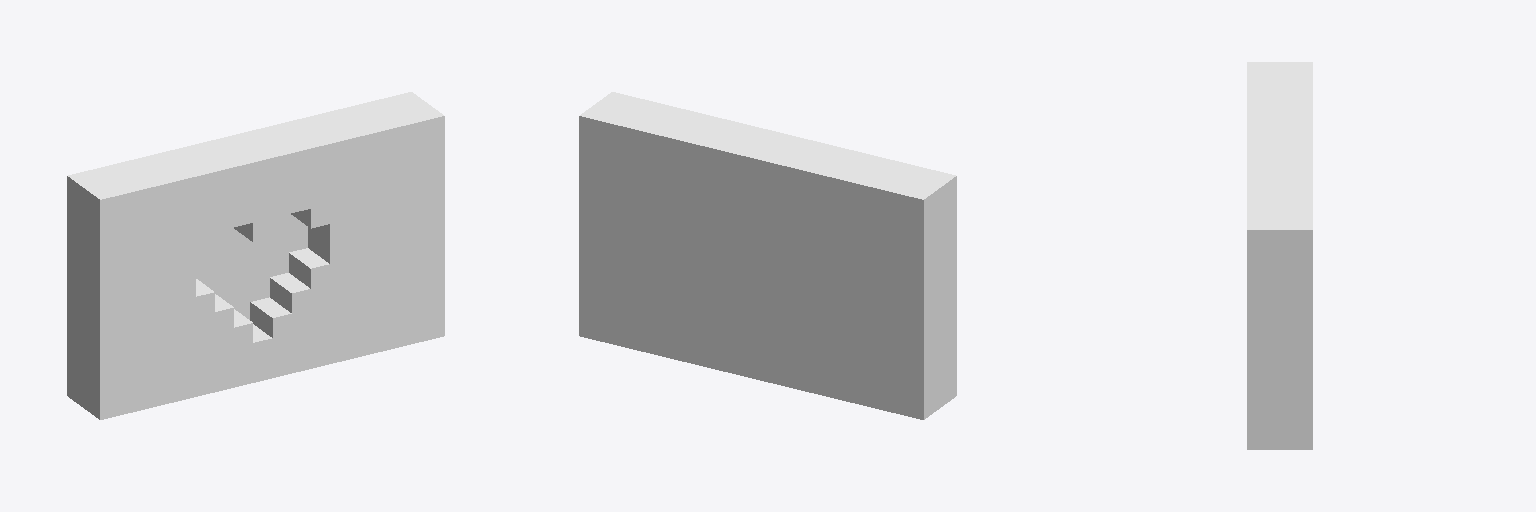
Rendered from HeartBox.vox.obj.
The picture shows the model from 3 angles: view 1: azimuth 30°, elevation 25°; view 2: azimuth 150°, elevation 25°; view 3: azimuth 270°, elevation 25°; orthographic projection.
Parts seen in each view (by area): view 1: object 1; view 2: object 1; view 3: object 1.
Part boxes in pixels (x1,y1,x2,y2): object 1: (67, 92, 444, 419); object 1: (579, 92, 956, 419); object 1: (1247, 62, 1312, 449).
Size of the model in its own units: 1.8 by 1.1 by 0.3.